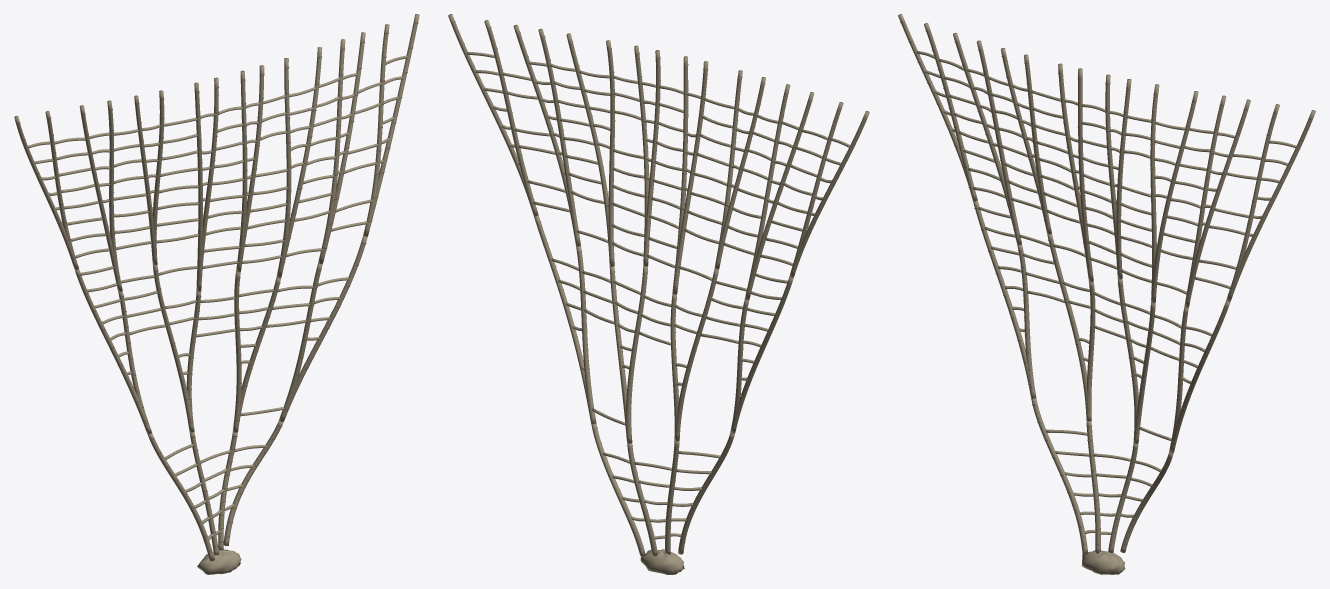
Rendered from bryozoan-colony.glb.
The picture shows the model from 3 angles, left to right: view 1: azimuth 30°, elevation 25°; view 2: azimuth 150°, elevation 25°; view 3: azimuth 330°, elevation 25°; orthographic projection.
Visible parts, largest first — view 1: bryozoan-colony; view 2: bryozoan-colony; view 3: bryozoan-colony.
Part boxes in pixels (x1,y1,x2,y2): bryozoan-colony: [14, 14, 419, 574]; bryozoan-colony: [448, 14, 869, 574]; bryozoan-colony: [898, 14, 1315, 574].
Bounding box in the file's own units: 0.0512 × 0.0599 × 0.00486.
